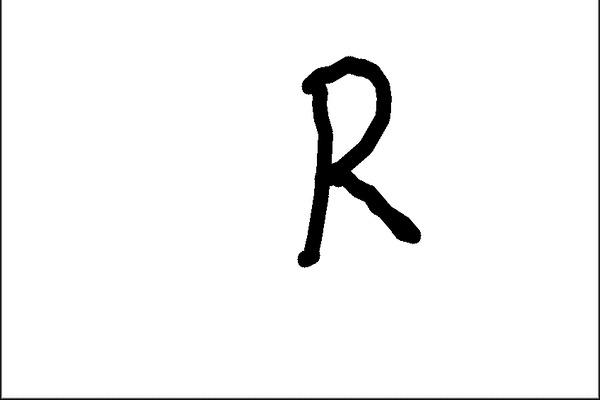R: (283, 35, 426, 279)
